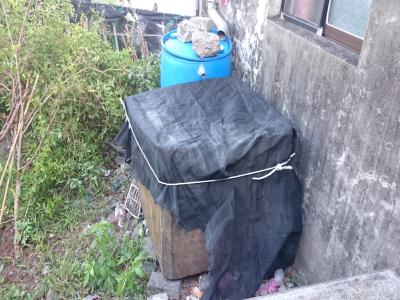bucket: (159, 29, 235, 87)
plastic_bag: (125, 80, 294, 160)
